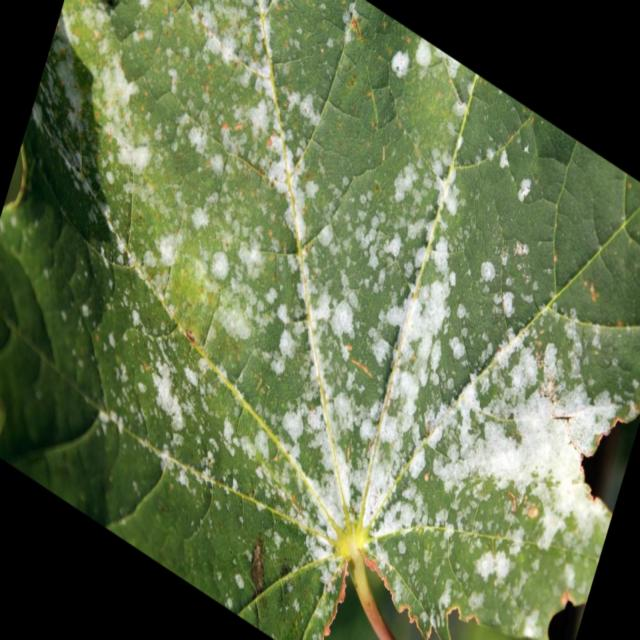Powdery Mildew: (1, 0, 638, 638)
